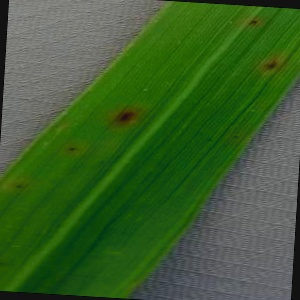Bacterial_Leaf_Blight: (107, 101, 143, 130), (256, 55, 283, 74), (245, 13, 263, 30), (138, 84, 153, 96), (65, 144, 80, 155), (204, 135, 217, 147), (231, 132, 242, 144), (13, 182, 23, 192)
